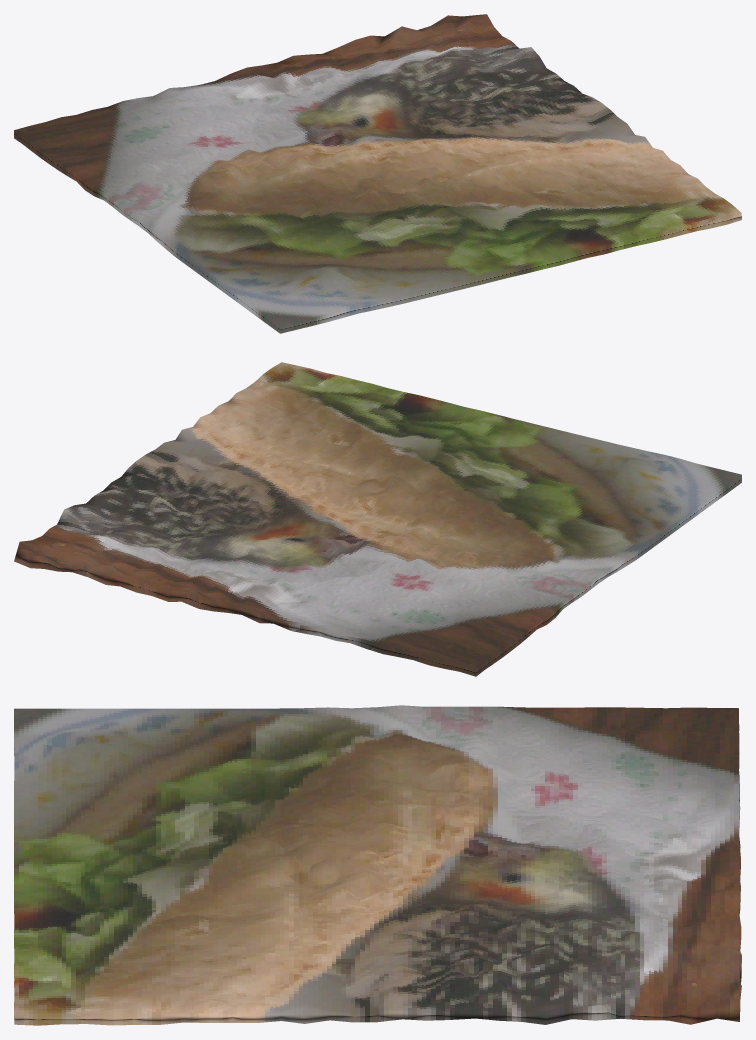
Rendered from terrain.glb.
The picture shows the model from 3 angles, top to bottom: view 1: azimuth 30°, elevation 25°; view 2: azimuth 150°, elevation 25°; view 3: azimuth 270°, elevation 25°; orthographic projection. The views are drawn at different scales.
Visible parts, largest first — view 1: terrain; view 2: terrain; view 3: terrain.
Part boxes in pixels (x1,y1,x2,y2): terrain: [14, 14, 741, 333]; terrain: [14, 362, 741, 676]; terrain: [14, 705, 741, 1025].
Bounding box in the file's own units: 190 × 8.92 × 189.
1 material, 1 textured.
